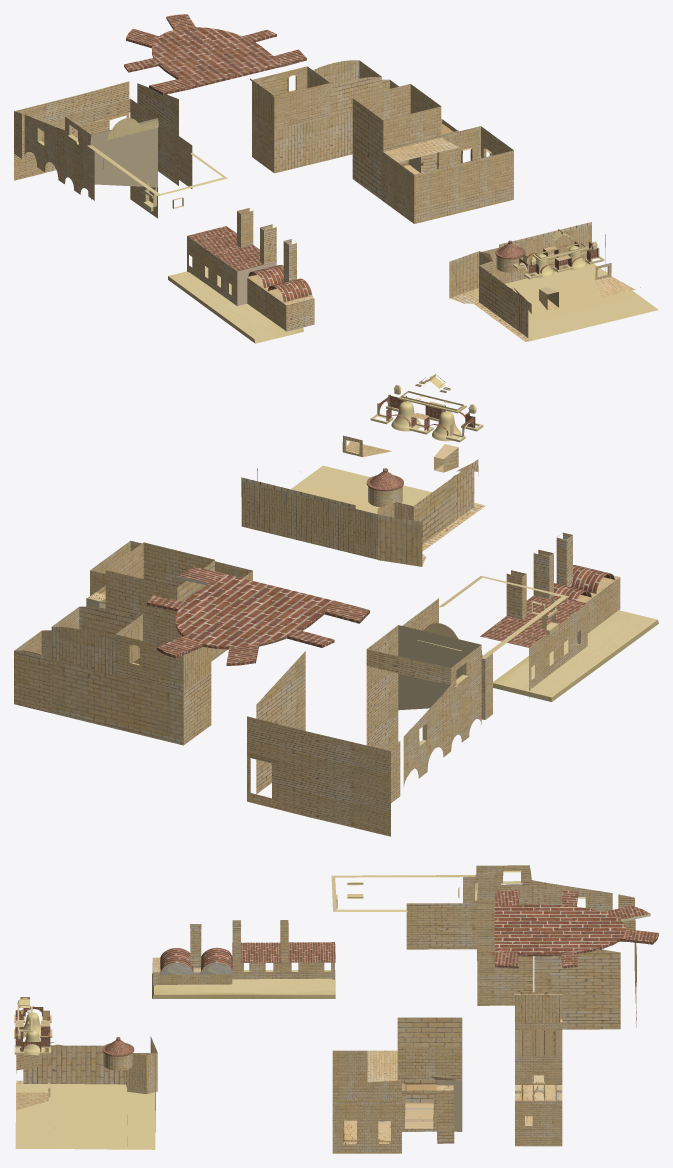
The model's file is catedral8...bx.fbx.
3 views of the same model, one above another, from view 1: azimuth 30°, elevation 25°; view 2: azimuth 150°, elevation 25°; view 3: azimuth 270°, elevation 25° (orthographic). The views are drawn at different scales.
Parts seen in each view (by area): view 1: Cube.008, Cube.014, Cube.039, Cube.062, Cube.012, Cube.052, Cube.042, Plane.003, Cube.033, Cube.030, Cube.031, Cube.037 (+7 smaller); view 2: Cube.039, Cube.014, Cube.008, Cube.052, Cube.042, Cube.012, Plane.003, Cube.031, Cube.033, Cube.037, Cube.045, Cube.030 (+6 smaller); view 3: Cube.008, Cube.012, Cube.039, Cube.052, Cube.014, Cube.042, Cube.062, Plane.003, Cube.037, Cube.009, Cube.033, Cube.031 (+8 smaller).
Boxes of the visible parts, <box> form: Cube.008: <box>449,222,658,341</box>; Cube.014: <box>250,60,398,173</box>; Cube.039: <box>14,81,178,200</box>; Cube.062: <box>381,126,513,223</box>; Cube.012: <box>352,84,492,199</box>; Cube.052: <box>124,14,306,95</box>; Cube.042: <box>65,98,192,218</box>; Plane.003: <box>168,267,303,343</box>; Cube.033: <box>187,236,276,306</box>; Cube.030: <box>247,275,314,331</box>; Cube.031: <box>237,208,296,282</box>; Cube.037: <box>187,226,263,271</box>; Cube.039: <box>247,645,492,836</box>; Cube.014: <box>14,606,211,745</box>; Cube.008: <box>241,374,485,566</box>; Cube.052: <box>147,567,369,665</box>; Cube.042: <box>366,598,480,751</box>; Cube.012: <box>86,542,214,661</box>; Plane.003: <box>493,610,658,701</box>; Cube.031: <box>506,532,572,619</box>; Cube.033: <box>529,604,587,698</box>; Cube.037: <box>480,595,587,647</box>; Cube.045: <box>419,575,568,745</box>; Cube.030: <box>576,575,620,633</box>; Cube.008: <box>15,997,157,1149</box>; Cube.012: <box>343,1017,462,1144</box>; Cube.039: <box>463,865,636,1029</box>; Cube.052: <box>494,890,658,968</box>; Cube.014: <box>514,992,563,1146</box>; Cube.042: <box>406,868,533,1005</box>; Cube.062: <box>332,1050,401,1153</box>; Plane.003: <box>152,970,335,998</box>; Cube.037: <box>232,942,335,962</box>; Cube.009: <box>160,947,232,975</box>; Cube.033: <box>232,949,334,979</box>; Cube.031: <box>190,920,288,973</box>.
Size of the model in its own units: 20183 by 6343 by 30003.
